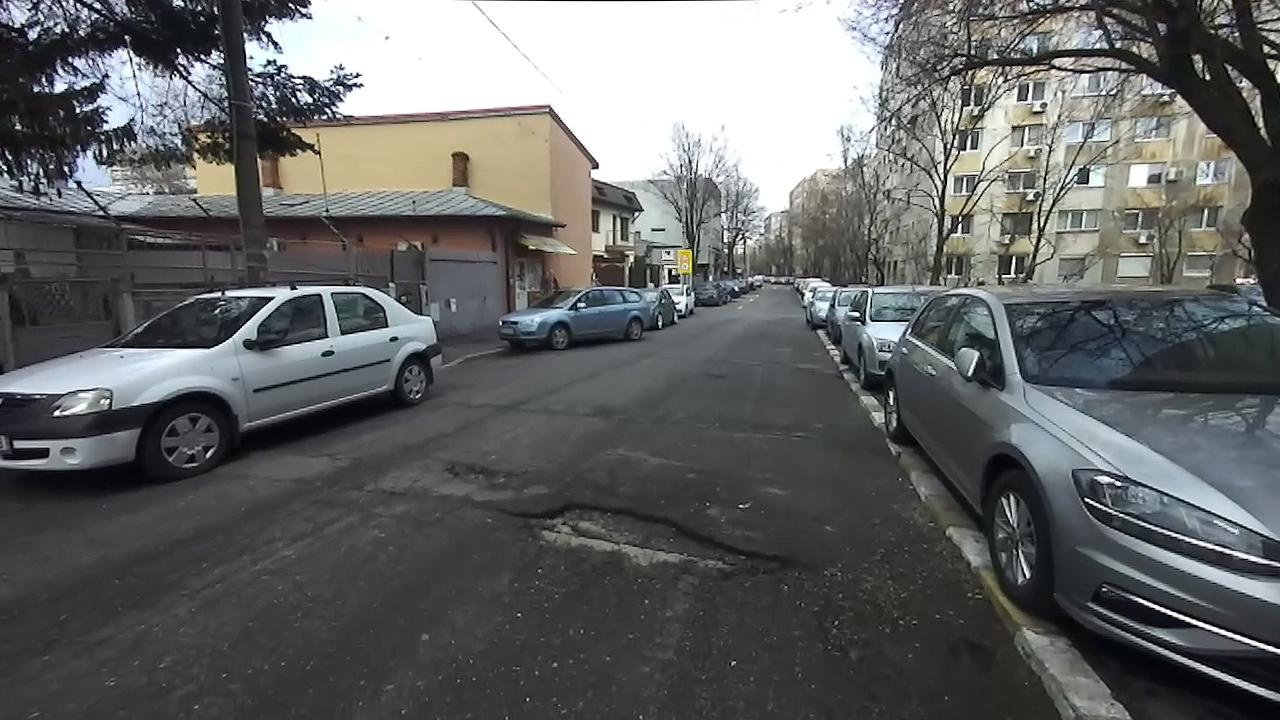pothole: (492, 497, 801, 588), (437, 454, 518, 486)
